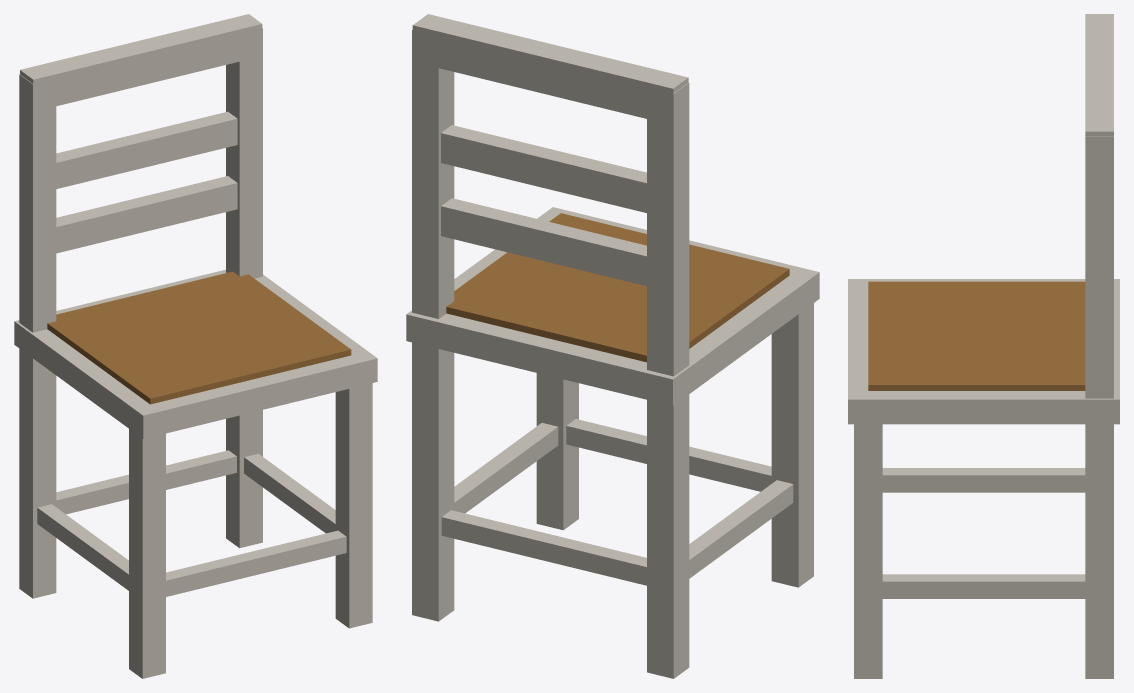
The model's file is chair.glb.
3 views of the same model, side by side, from view 1: azimuth 30°, elevation 25°; view 2: azimuth 150°, elevation 25°; view 3: azimuth 270°, elevation 25° (orthographic). The views are drawn at different scales.
Visible parts, largest first — view 1: chair; view 2: chair; view 3: chair.
Part boxes in pixels (box(x1,y1,x2,y2)): chair: box(14, 14, 377, 678); chair: box(406, 14, 819, 678); chair: box(848, 14, 1119, 678).
Bounding box in the file's own units: 0.42 × 0.8875 × 0.4.
